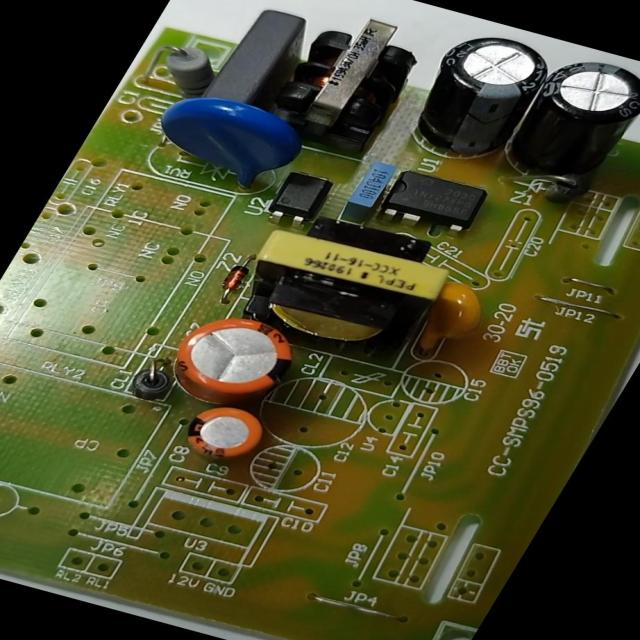Cap1: (140, 298, 325, 418)
Cap2: (158, 392, 286, 476)
Cap3: (388, 20, 570, 174)
Cap4: (482, 44, 639, 203)
MOSFET: (361, 162, 503, 242)
Mov: (118, 76, 326, 201)
Resistor: (132, 29, 232, 100)
Transformer: (208, 202, 481, 373), (244, 0, 443, 163)
